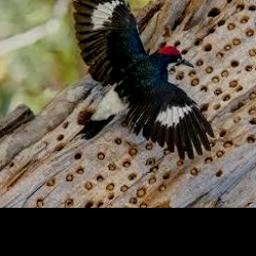Woodpecker: (70, 0, 215, 160)
